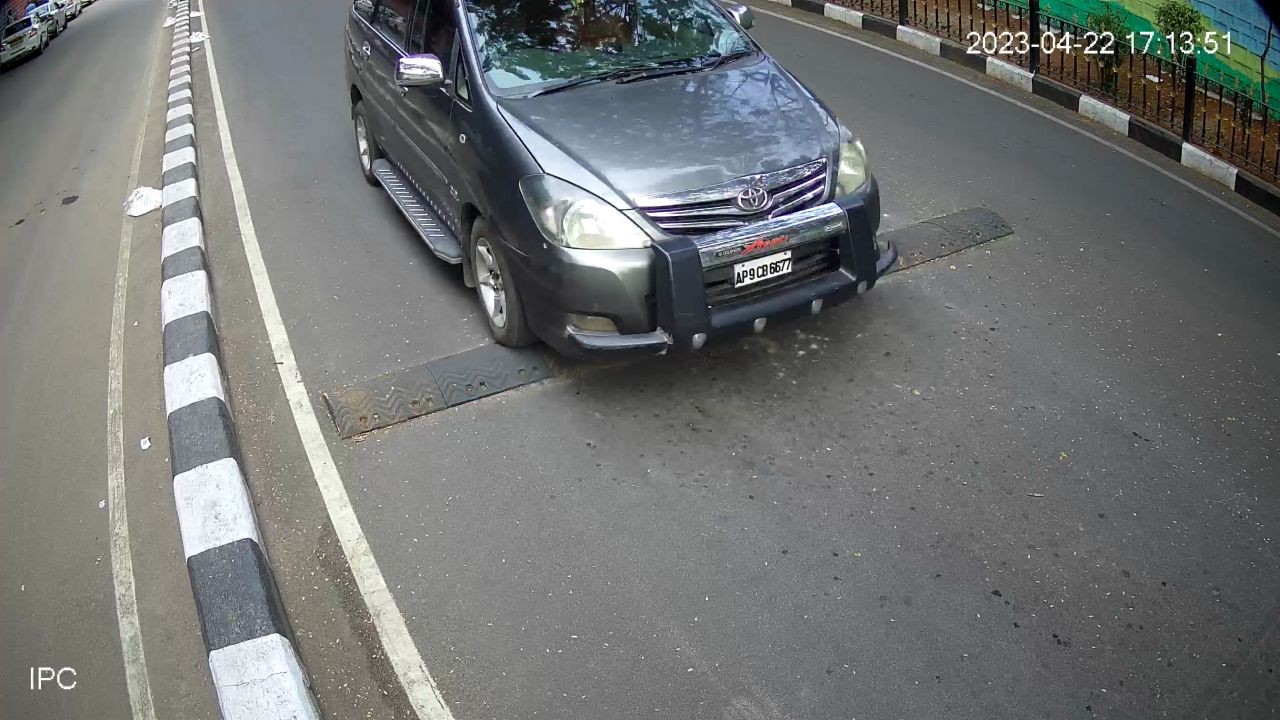license_plate: (729, 243, 798, 294)
